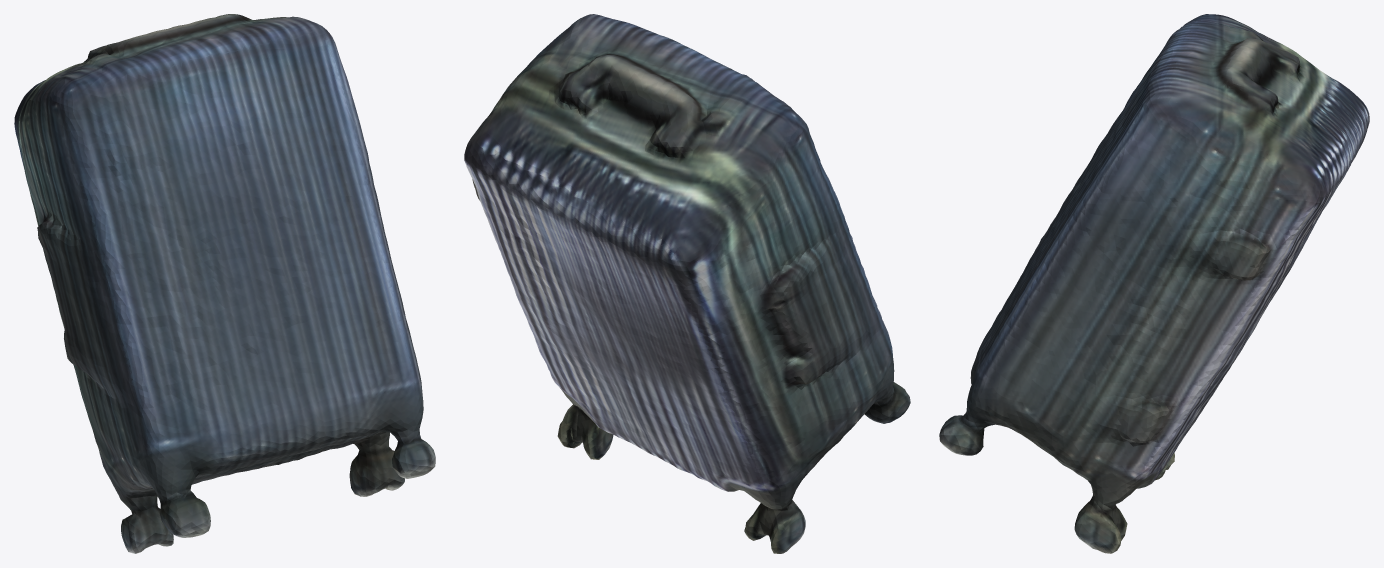
3 views of the same model, side by side, from view 1: azimuth 30°, elevation 25°; view 2: azimuth 150°, elevation 25°; view 3: azimuth 270°, elevation 25° (orthographic). The views are drawn at different scales.
Visible parts, largest first — view 1: world; view 2: world; view 3: world.
Boxes of the visible parts, x1=… form: world: x1=14, y1=14, x2=435, y2=553; world: x1=464, y1=14, x2=910, y2=553; world: x1=939, y1=14, x2=1369, y2=553.
Size of the model in its own units: 0.6882 by 1.04 by 0.8727.
Materials: 1 (1 with a texture image).
